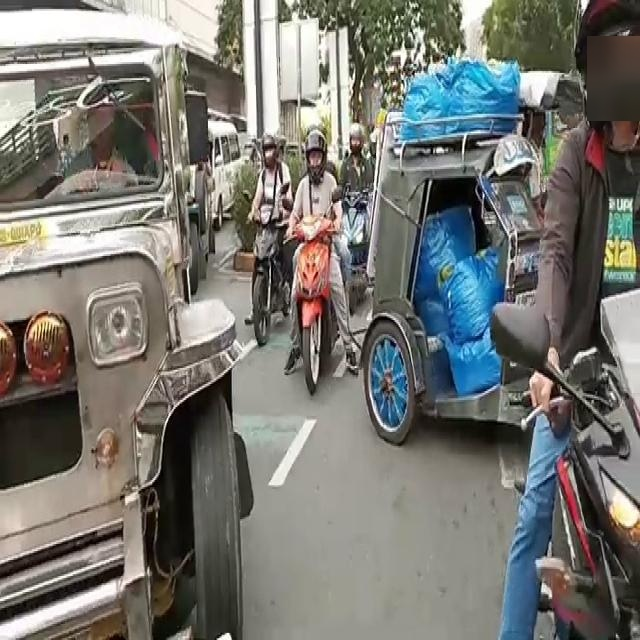jeepney: (0, 58, 241, 591)
motorcycle: (539, 33, 640, 635), (378, 137, 564, 443), (290, 147, 344, 407), (251, 142, 289, 342), (342, 129, 376, 310)
